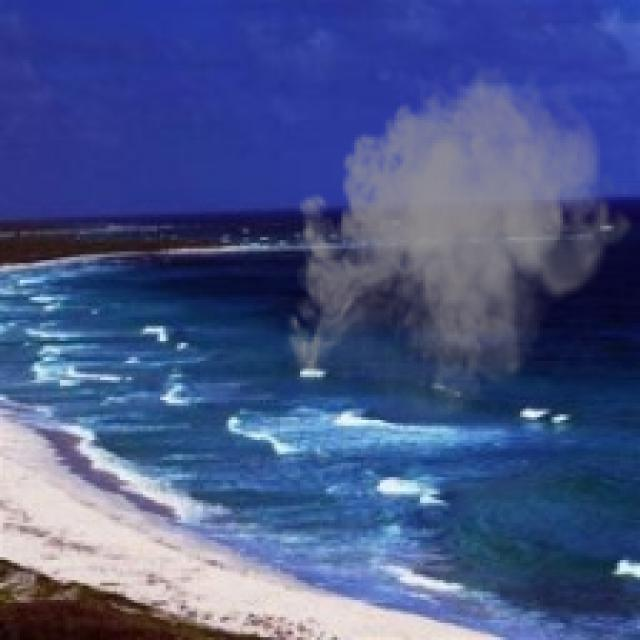smoke: (277, 54, 634, 440)
